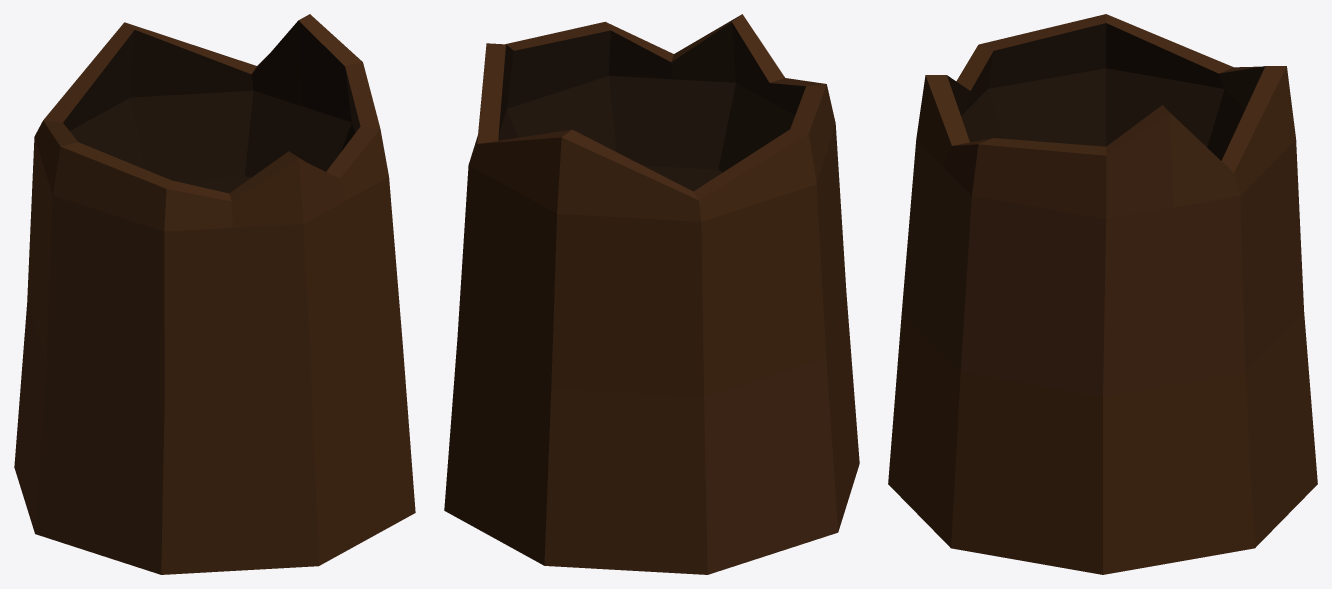
The model's file is PotionCraft-Assets.fbx.
The picture shows the model from 3 angles, left to right: view 1: azimuth 30°, elevation 25°; view 2: azimuth 150°, elevation 25°; view 3: azimuth 270°, elevation 25°; orthographic projection. The views are drawn at different scales.
Visible parts, largest first — view 1: Cylinder.112; view 2: Cylinder.112; view 3: Cylinder.112.
Boxes of the visible parts, box(x1,y1,x2,y2) form: Cylinder.112: box(14, 14, 415, 574); Cylinder.112: box(444, 14, 859, 574); Cylinder.112: box(888, 14, 1317, 574).
Size of the model in its own units: 140 by 157 by 140.
